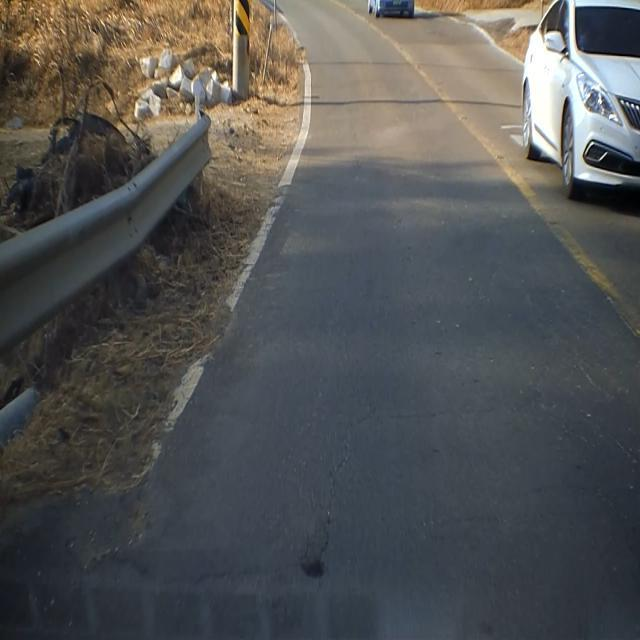pothole: (294, 539, 334, 598)
